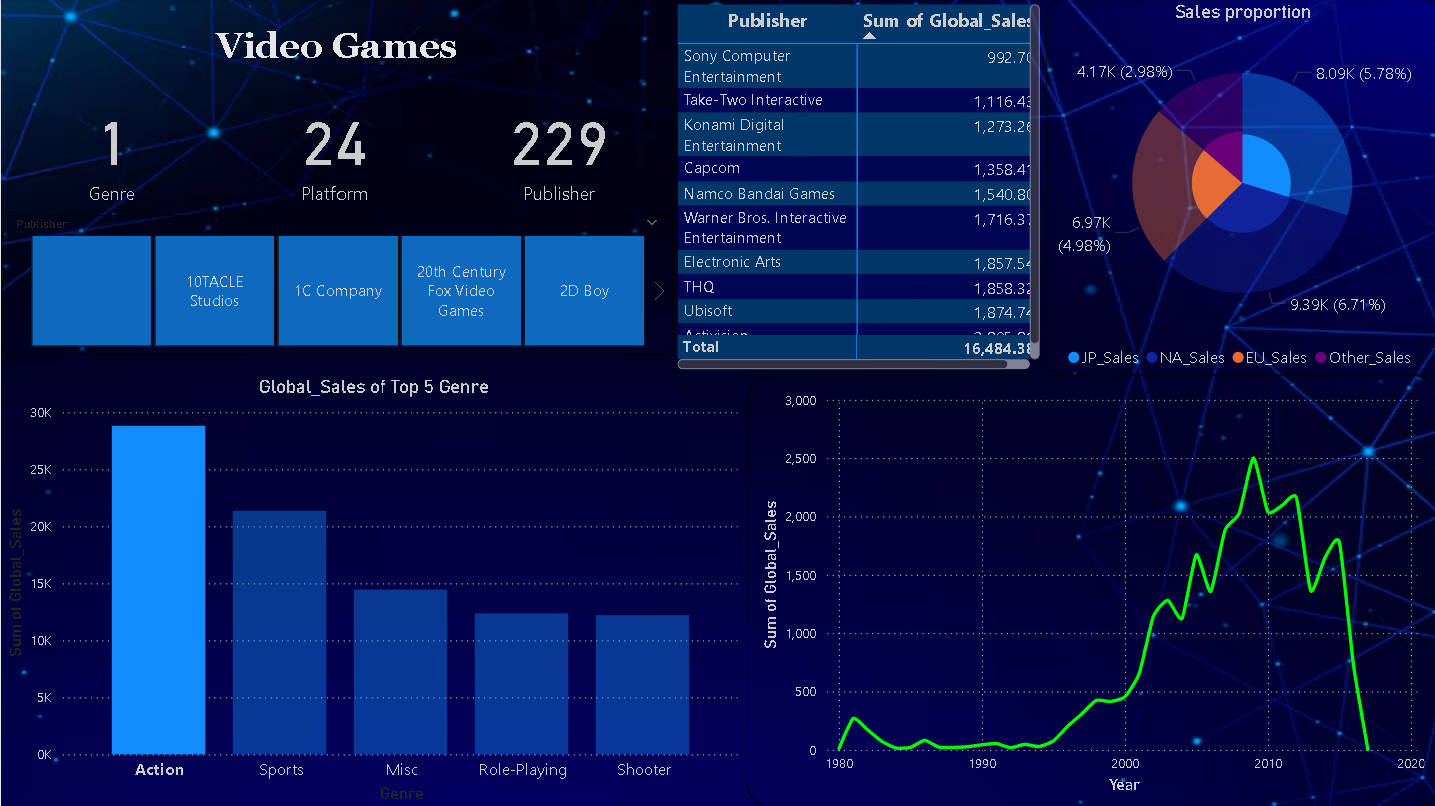

The page's visual inventory and layout, read from the dashboard file:
{"tool":"powerbi","page":{"name":"Page 1","canvas":[1280,720],"ordinal":0},"visuals":[{"type":"lineChart","fields":{"Category":["video_games.Year"],"Y":["Sum(video_games.Global_Sales)"]},"box":[664.2,334.8,616.1,385.6],"z":0},{"type":"pieChart","title":"Sales proportion","fields":{"Y":["Sum(video_games.JP_Sales)","Sum(video_games.NA_Sales)","Sum(video_games.EU_Sales)","Sum(video_games.Other_Sales)"]},"box":[930.4,0,349.9,334.8],"z":1000},{"type":"columnChart","title":"Global_Sales of Top 5 Genre","fields":{"Category":["video_games.Genre"],"Y":["Sum(video_games.Global_Sales)"]},"box":[0,334.8,664.2,385.6],"z":2000},{"type":"card","fields":{"Values":["Count(video_games.Genre)"]},"box":[0,74.1,199,118],"z":3000},{"type":"card","fields":{"Values":["Count(video_games.Platform)"]},"box":[199,74.1,197.6,118],"z":4000},{"type":"card","fields":{"Values":["Count(video_games.Publisher)"]},"box":[396.6,74.1,201.7,118],"z":5000},{"type":"slicer","fields":{"Values":["video_games.Publisher"]},"box":[0,192.1,598.3,124.9],"z":6000},{"type":"textbox","box":[0,0,598.3,74.1],"z":7000},{"type":"pivotTable","title":"             ","fields":{"Rows":["video_games.Publisher"],"Values":["Sum(video_games.Global_Sales)"]},"box":[598.3,0,332.1,334.8],"z":8000}]}

Visuals, with their boxes in screenshot pixels (x1, y1, x2, y2), scaled from the page's 1280x720 canvas onto the 1435x806 screenshot:
lineChart - video_games.Year x Sum(video_games.Global_Sales): 745,375,1434,805
"Sales proportion" pieChart: 1043,0,1434,375
"Global_Sales of Top 5 Genre" columnChart: 0,375,745,805
card - Count(video_games.Genre): 0,83,223,215
card - Count(video_games.Platform): 223,83,445,215
card - Count(video_games.Publisher): 445,83,671,215
slicer - video_games.Publisher: 0,215,671,355
textbox: 0,0,671,83
"             " pivotTable: 671,0,1043,375
